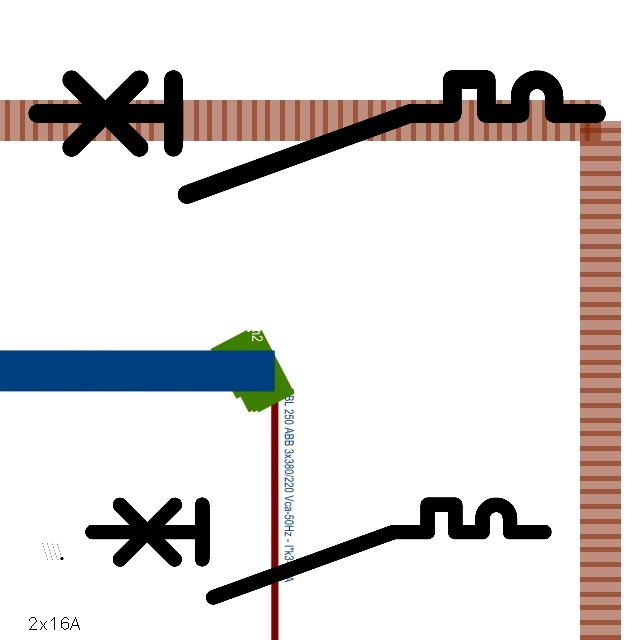interruptor_termomagnetico: (23, 65, 611, 209), (80, 493, 555, 609)
